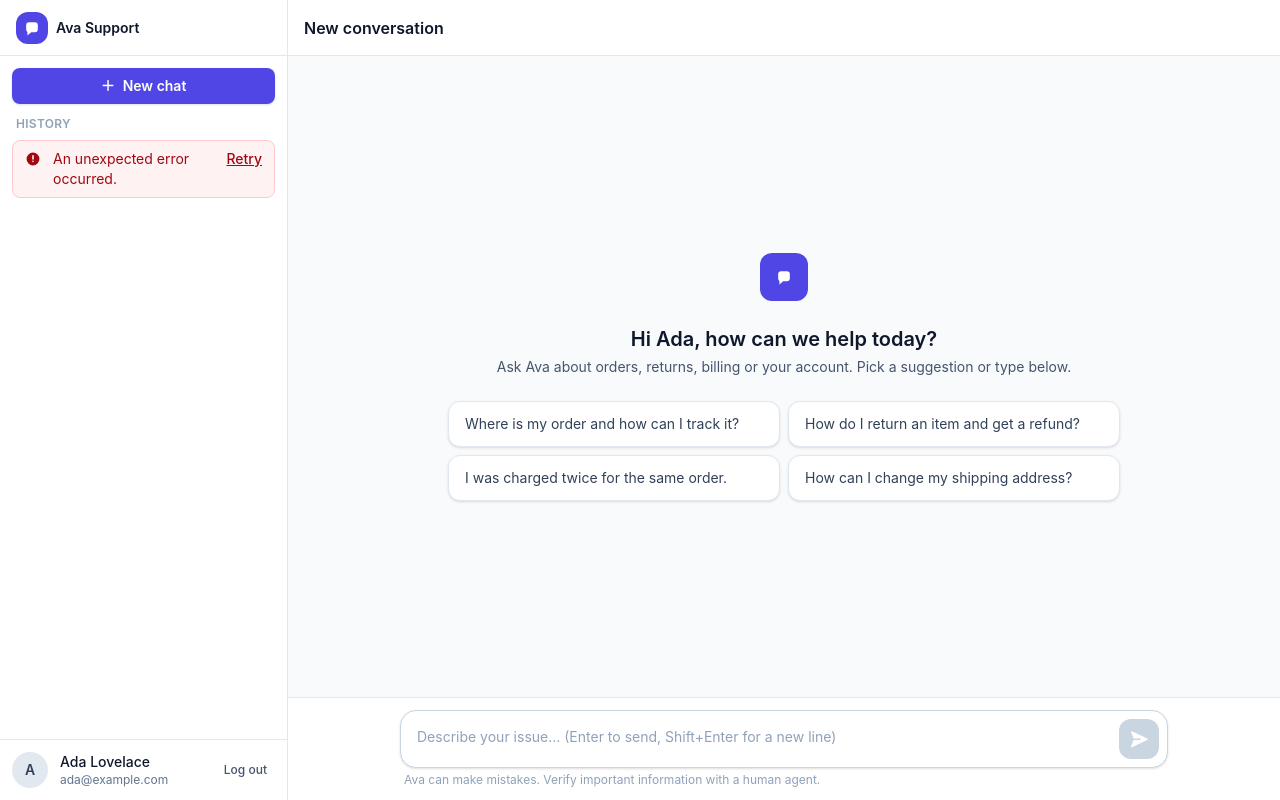
Test case: Chat dashboard › shows a history error with retry
This screenshot has width=1280, height=800.
Check: the message shows "An unexpected error occurred.", box 53,150 -> 189,187
Click the button "Retry" at (244, 159), box 226,149 -> 262,169
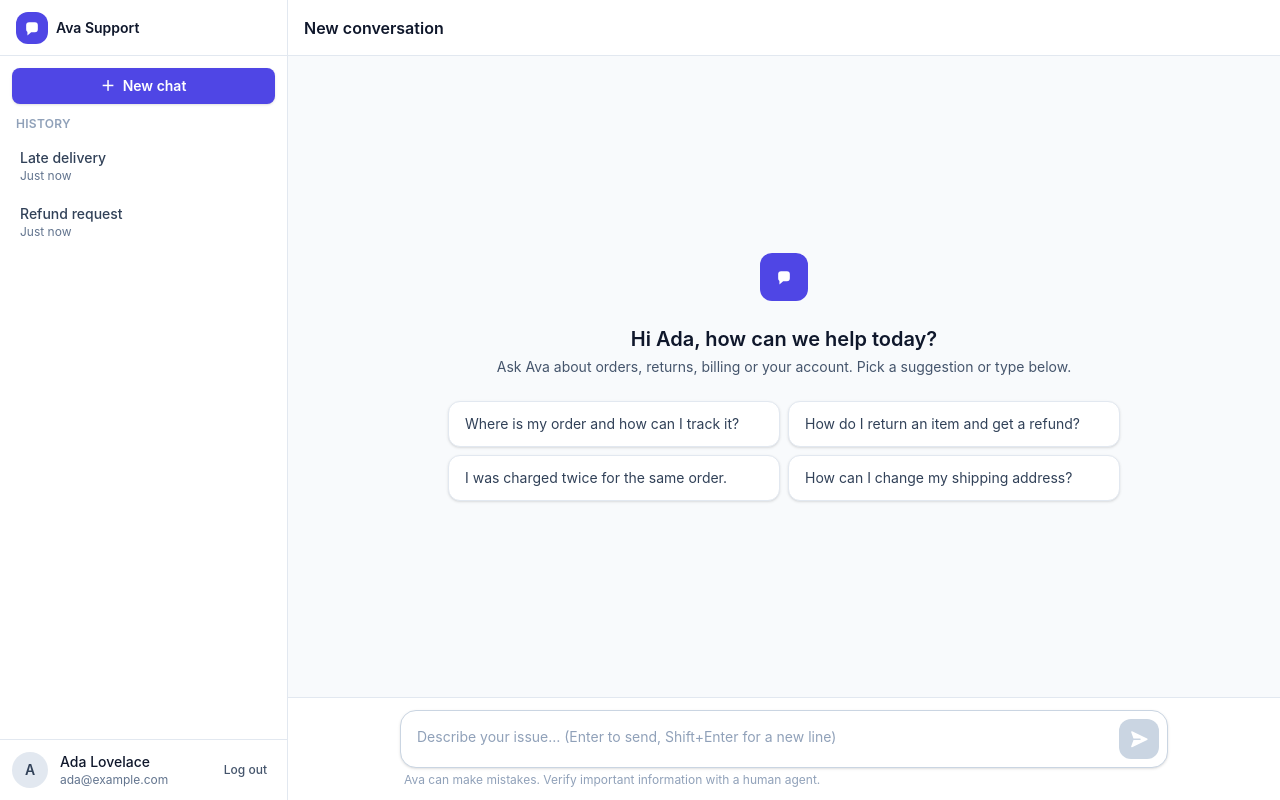
Check: the button "Late delivery Just now" is shown, box 8,140 -> 279,192
